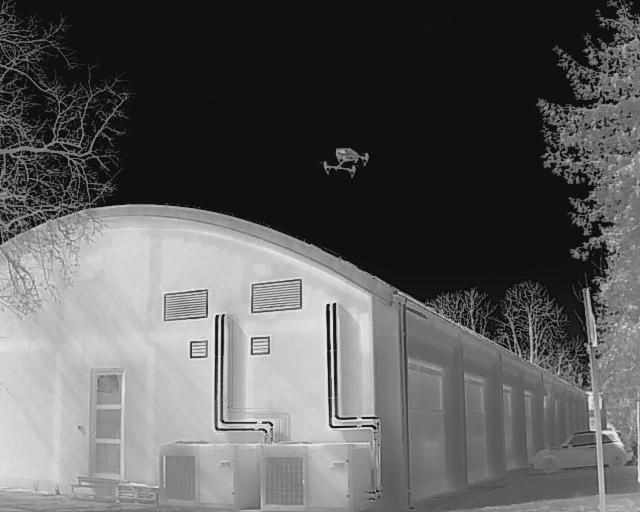drone: (308, 144, 374, 187)
